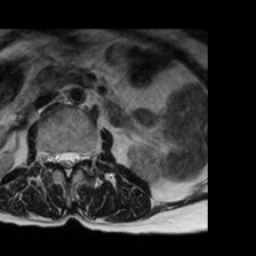CCS_normal: (63, 144, 71, 182)
LFS_stenosis: (80, 141, 88, 167)
LLS_normal: (71, 143, 80, 173)
RFS_normal: (47, 143, 55, 170)
RLS_normal: (55, 144, 63, 173)
